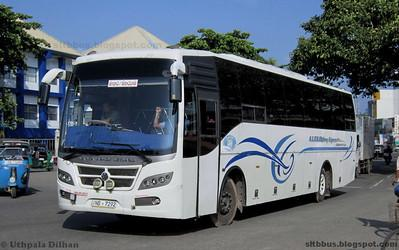bus: (49, 46, 359, 233)
